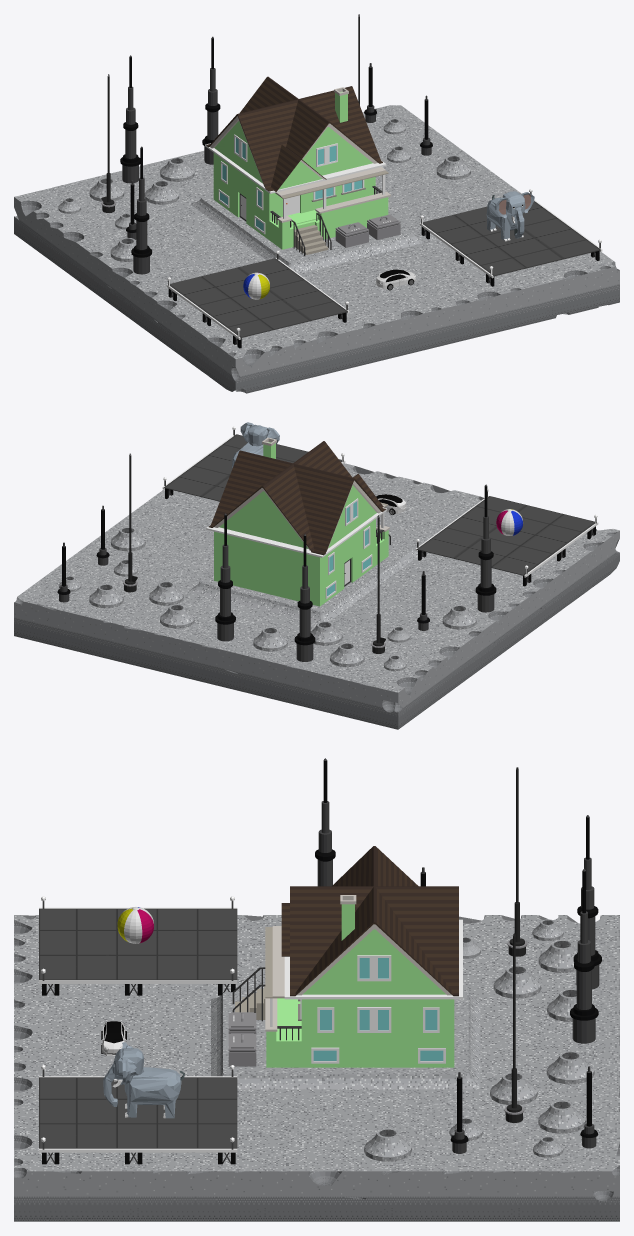
The picture shows the model from 3 angles, top to bottom: view 1: azimuth 30°, elevation 25°; view 2: azimuth 150°, elevation 25°; view 3: azimuth 270°, elevation 25°; orthographic projection. The views are drawn at different scales.
Visible parts, largest first — view 1: Cube.027, Cube.274, Cube.025, Cube.026, Cube.028, ANIMAL_ELEFANTE, Cylinder.021, Cylinder.020, Cylinder.017, Cube.029, Cube.030, Cylinder.026 (+6 smaller); view 2: Cube.027, Cube.274, Cube.025, Cube.028, Cube.026, Cylinder.021, Cylinder.020, Cylinder.017, ANIMAL_ELEFANTE, Cylinder.025, Cylinder.027, Cylinder.030 (+8 smaller); view 3: Cube.027, Cube.274, Cube.025, Cube.026, Cube.028, ANIMAL_ELEFANTE, Cylinder.017, Cylinder.021, Cylinder.020, Cylinder.033, Cylinder.031, Cylinder.029 (+12 smaller).
Part boxes in pixels (x1,y1,x2,y2): Cube.027: [14, 105, 619, 393]; Cube.274: [205, 76, 390, 256]; Cube.025: [166, 250, 349, 348]; Cube.026: [419, 189, 602, 286]; Cube.028: [191, 194, 423, 273]; ANIMAL_ELEFANTE: [486, 191, 534, 241]; Cylinder.021: [131, 146, 151, 274]; Cylinder.020: [120, 55, 140, 183]; Cylinder.017: [202, 36, 220, 164]; Cube.029: [335, 222, 368, 247]; Cube.030: [367, 214, 400, 240]; Cylinder.026: [144, 180, 179, 204]; Cube.027: [14, 463, 619, 729]; Cube.274: [206, 437, 390, 606]; Cube.025: [415, 488, 598, 586]; Cube.028: [189, 541, 417, 623]; Cube.026: [162, 426, 345, 501]; Cylinder.021: [475, 484, 496, 612]; Cylinder.020: [294, 534, 315, 661]; Cylinder.017: [215, 513, 235, 641]; ANIMAL_ELEFANTE: [232, 422, 279, 468]; Cylinder.025: [442, 605, 476, 629]; Cylinder.027: [253, 627, 287, 651]; Cylinder.030: [149, 581, 183, 605]; Cube.027: [14, 915, 619, 1221]; Cube.274: [232, 846, 462, 1067]; Cube.025: [39, 896, 237, 995]; Cube.026: [39, 1065, 237, 1164]; Cube.028: [211, 992, 480, 1089]; ANIMAL_ELEFANTE: [103, 1042, 184, 1118]; Cylinder.017: [570, 868, 598, 1043]; Cylinder.021: [315, 758, 335, 886]; Cylinder.020: [573, 815, 601, 989]; Cylinder.033: [364, 1128, 411, 1161]; Cylinder.031: [538, 1100, 585, 1133]; Cylinder.029: [546, 1051, 594, 1084].
Size of the model in its own units: 4000 by 1807 by 4000.
Materials: 35 (4 with a texture image).
